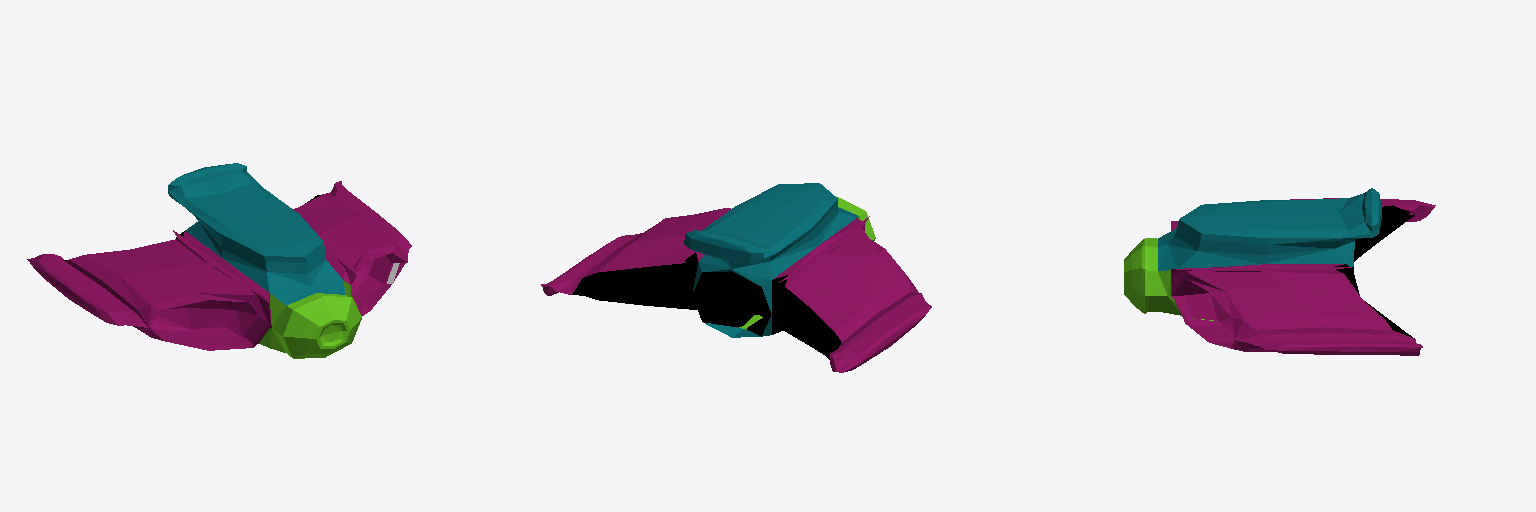
Rendered from spaceship2.obj.
3 views of the same model, side by side, from view 1: azimuth 30°, elevation 25°; view 2: azimuth 150°, elevation 25°; view 3: azimuth 270°, elevation 25° (orthographic).
Visible parts, largest first — view 1: pCube1; view 2: pCube1; view 3: pCube1.
Part boxes in pixels (x1,y1,x2,y2): pCube1: (27, 163, 411, 358); pCube1: (541, 183, 931, 372); pCube1: (1124, 188, 1435, 355).
Size of the model in its own units: 3.95 by 1.31 by 3.41.